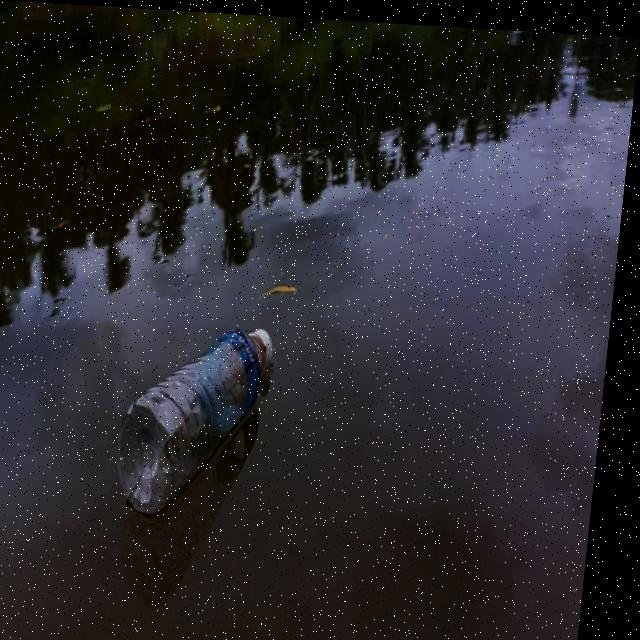waterbottle: (96, 293, 318, 508)
